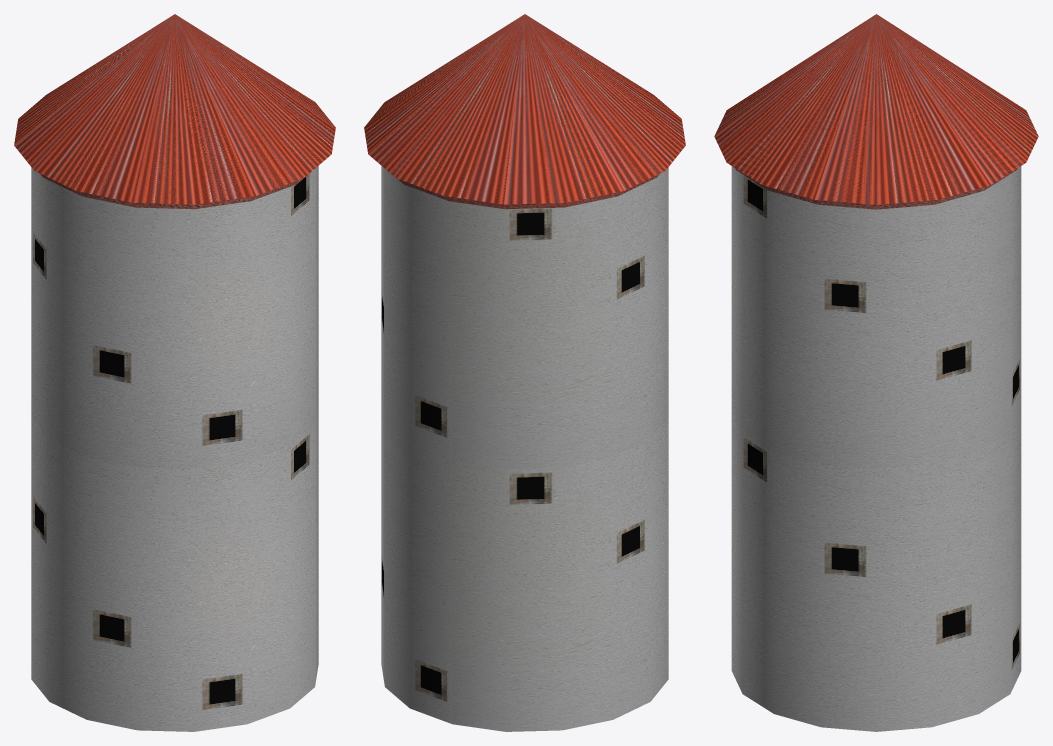
File: Silo.dae
3 renders of one model, left to right at view 1: azimuth 30°, elevation 25°; view 2: azimuth 150°, elevation 25°; view 3: azimuth 270°, elevation 25°, orthographic.
Visible parts, largest first — view 1: Silo; view 2: Silo; view 3: Silo.
Boxes of the visible parts, x1,y1,x2,y2 form: Silo: (14,14,335,731); Silo: (364,14,685,731); Silo: (714,14,1038,731).
Size of the model in its own units: 35.81 by 35.81 by 80.
